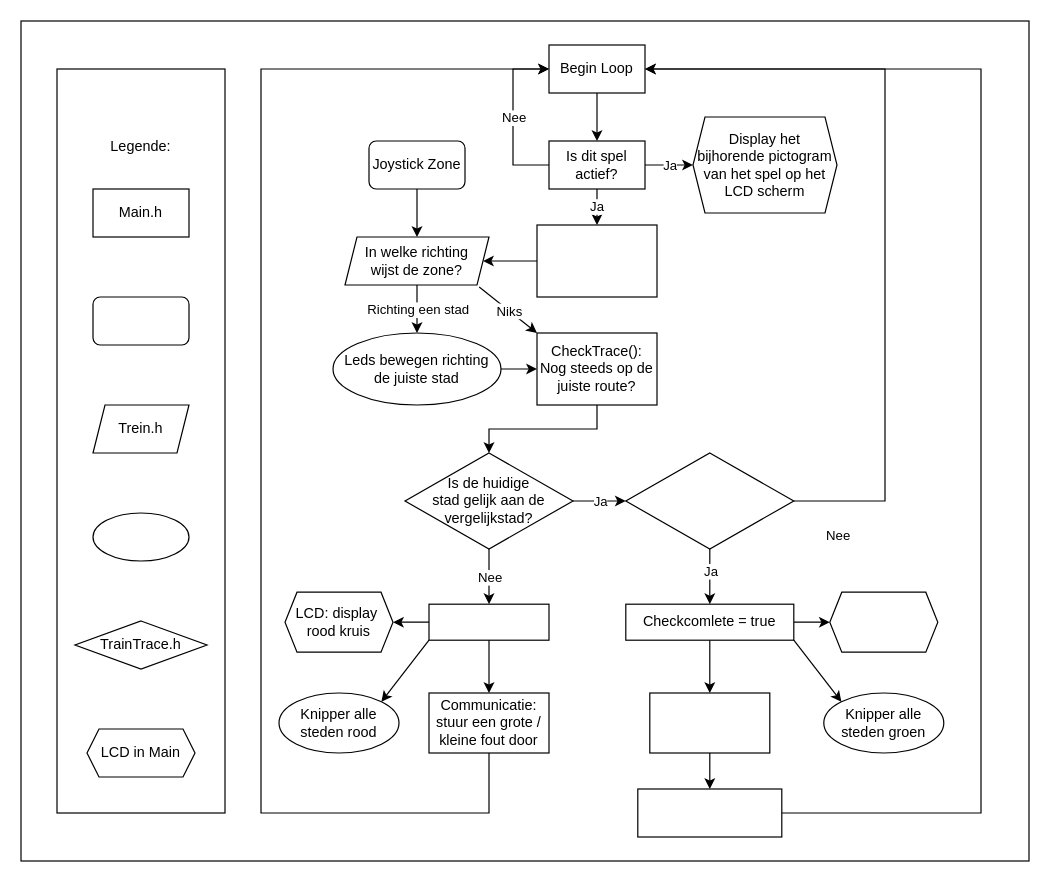
This 1050x882 diagram has some shape labels left out. Here are the shapes that lost their labels. From the top down, the centre of each, then its label:
At [596,260]: "VolgendeStad(): Bepaling naar waar de trein beweegt".
At [140,320]: "Drukknop.h".
At [709,500]: "Is dit de laatste stad op de route?".
At [140,536]: "LEDS.h".
At [488,621]: "AllesKits = false".
At [883,621]: "LCD: display groen vinkje".
At [709,722]: "Communicatie: stuur code door + display".
At [709,812]: "Maak het volgende spel actief".
